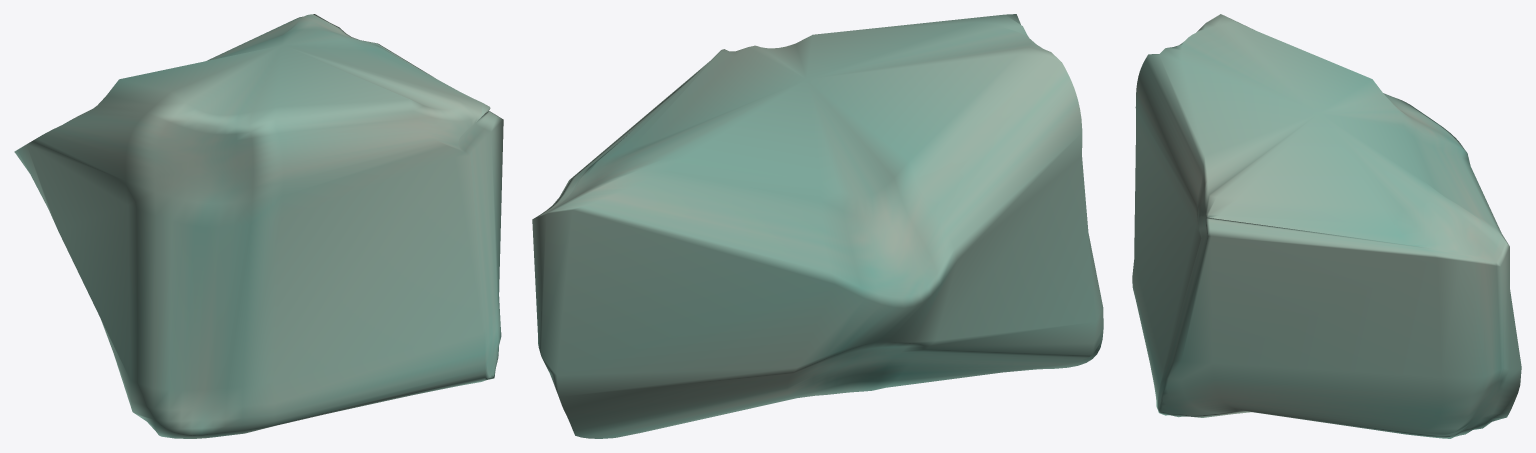
File: SM_Rock_06.glb
3 views of the same model, side by side, from view 1: azimuth 30°, elevation 25°; view 2: azimuth 150°, elevation 25°; view 3: azimuth 270°, elevation 25° (orthographic). The views are drawn at different scales.
Visible parts, largest first — view 1: SM_Rock_06; view 2: SM_Rock_06; view 3: SM_Rock_06.
Boxes of the visible parts, <box> form: SM_Rock_06: <box>14,14,503,438</box>; SM_Rock_06: <box>532,14,1103,438</box>; SM_Rock_06: <box>1132,14,1521,438</box>.
Bounding box in the file's own units: 0.7313 × 0.6151 × 0.7501.
